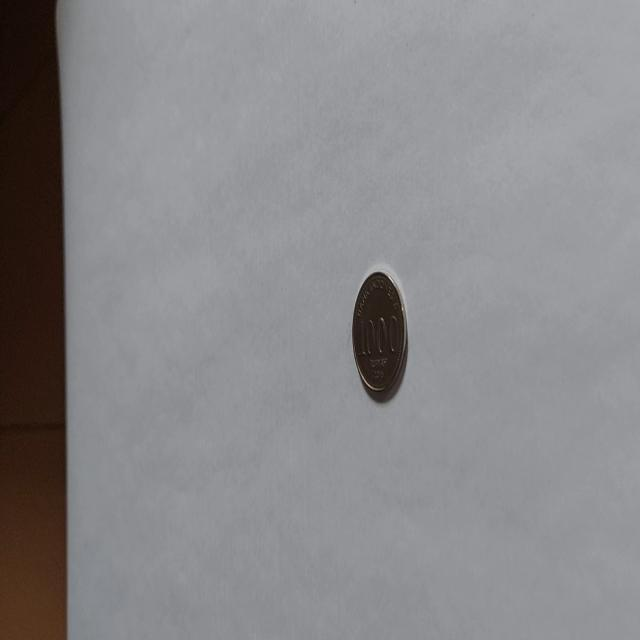seribu rupiah koin: (350, 268, 408, 402)
